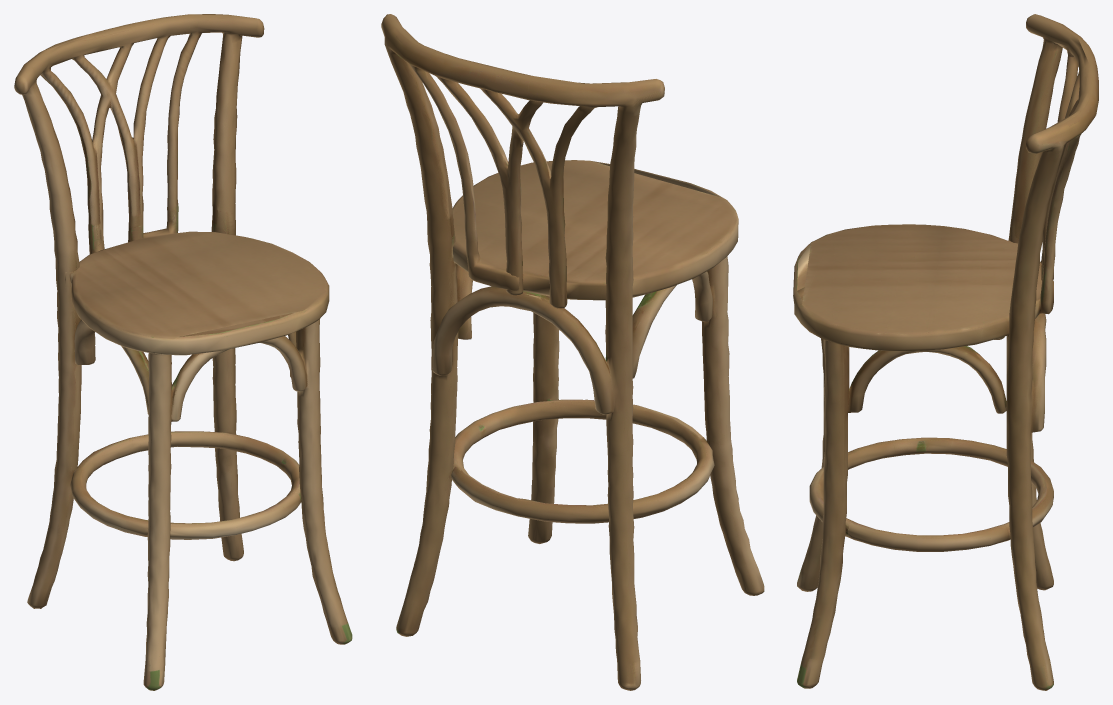
The model's file is Barstool_Willow_0404022114_texture.glb.
3 renders of one model, left to right at view 1: azimuth 30°, elevation 25°; view 2: azimuth 150°, elevation 25°; view 3: azimuth 270°, elevation 25°, orthographic. The views are drawn at different scales.
Visible parts, largest first — view 1: Mesh_0.004; view 2: Mesh_0.004; view 3: Mesh_0.004.
Boxes of the visible parts, x1,y1,x2,y2 form: Mesh_0.004: (14,14,352,690); Mesh_0.004: (381,14,764,690); Mesh_0.004: (793,14,1098,690).
Size of the model in its own units: 0.4618 by 0.9652 by 0.4737.
Materials: 1 (1 with a texture image).
